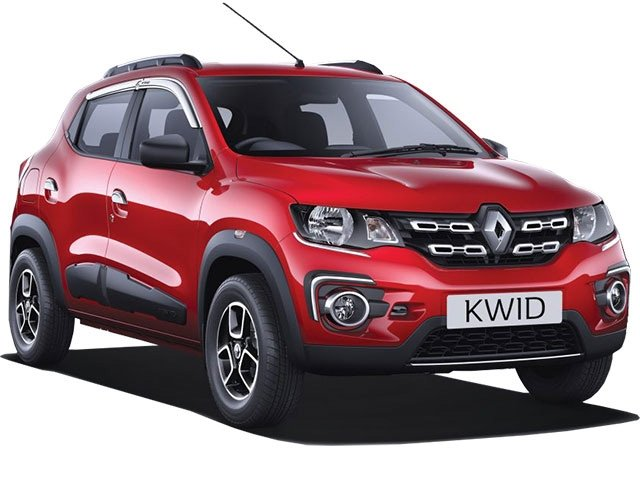Car: (4, 53, 640, 434)
